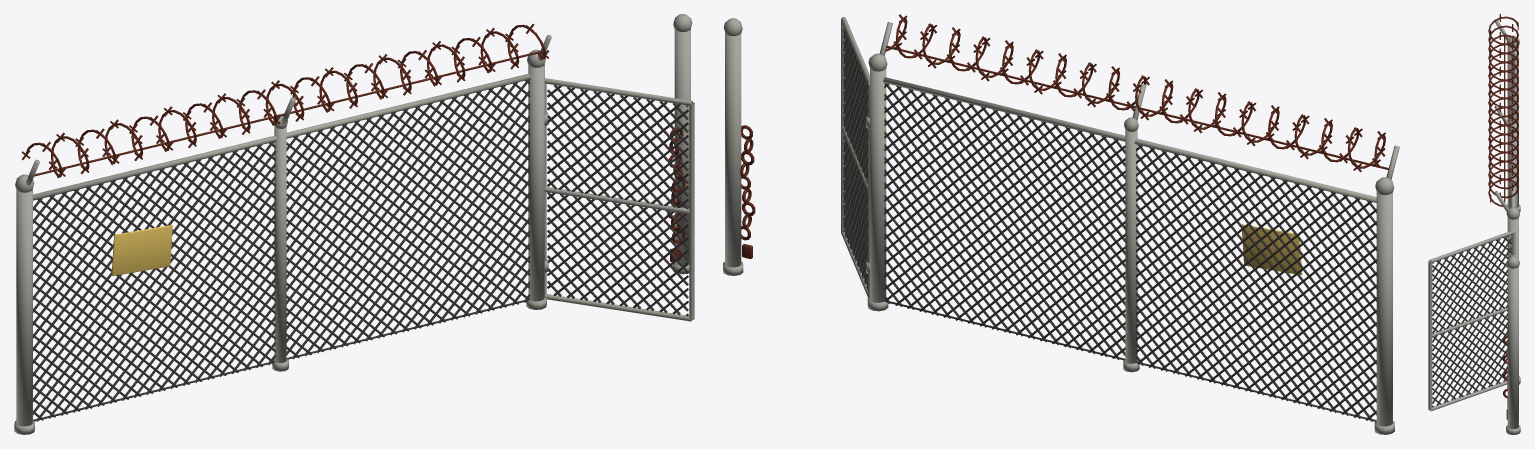
File: fence.glb
3 views of the same model, side by side, from view 1: azimuth 30°, elevation 25°; view 2: azimuth 150°, elevation 25°; view 3: azimuth 270°, elevation 25° (orthographic). The views are drawn at different scales.
Parts seen in each view (by area): view 1: fabric, gate_fabric, razor_coil, gate_frame, post_0, post_2, top_rail, razor_barbs, post_1, sign, post_3, barbed (+1 smaller); view 2: fabric, gate_fabric, razor_coil, post_0, post_3, post_2, top_rail, razor_barbs, post_1, gate_frame, sign, barbed (+1 smaller); view 3: gate_fabric, razor_coil, post_3, gate_frame, razor_barbs, post_0, top_rail, post_2, post_1, barbed, cap_3, cap_2.
Part boxes in pixels (x1,y1,x2,y2): fabric: (33,79,530,421); gate_fabric: (547,85,688,316); razor_coil: (25,24,545,177); gate_frame: (544,78,694,321); post_0: (16,189,32,426); post_2: (528,64,544,301); top_rail: (33,73,531,200); razor_barbs: (21,24,549,178); post_1: (274,127,286,362); sign: (111,225,172,275); post_3: (674,29,690,265); barbed: (34,51,540,176); fabric: (884,83,1376,421); gate_fabric: (843,28,867,290); razor_coil: (884,18,1385,168); post_0: (1376,192,1392,426); post_3: (725,33,741,267); post_2: (870,69,886,302); top_rail: (883,77,1376,202); razor_barbs: (893,14,1385,172); post_1: (1125,130,1137,363); gate_frame: (841,17,869,298); sign: (1242,224,1302,274); barbed: (886,45,1388,169); gate_fabric: (1432,236,1511,407); razor_coil: (1488,16,1518,206); post_3: (1507,266,1518,428); gate_frame: (1428,230,1515,411); razor_barbs: (1490,14,1518,202); post_0: (1507,46,1518,207); top_rail: (1511,53,1515,207); post_2: (1507,217,1518,258); post_1: (1509,131,1517,208); barbed: (1504,33,1505,202); cap_3: (1506,256,1519,268); cap_2: (1506,207,1519,219).
Bounding box in the file's own units: 5.54 × 2.29 × 0.9529.
